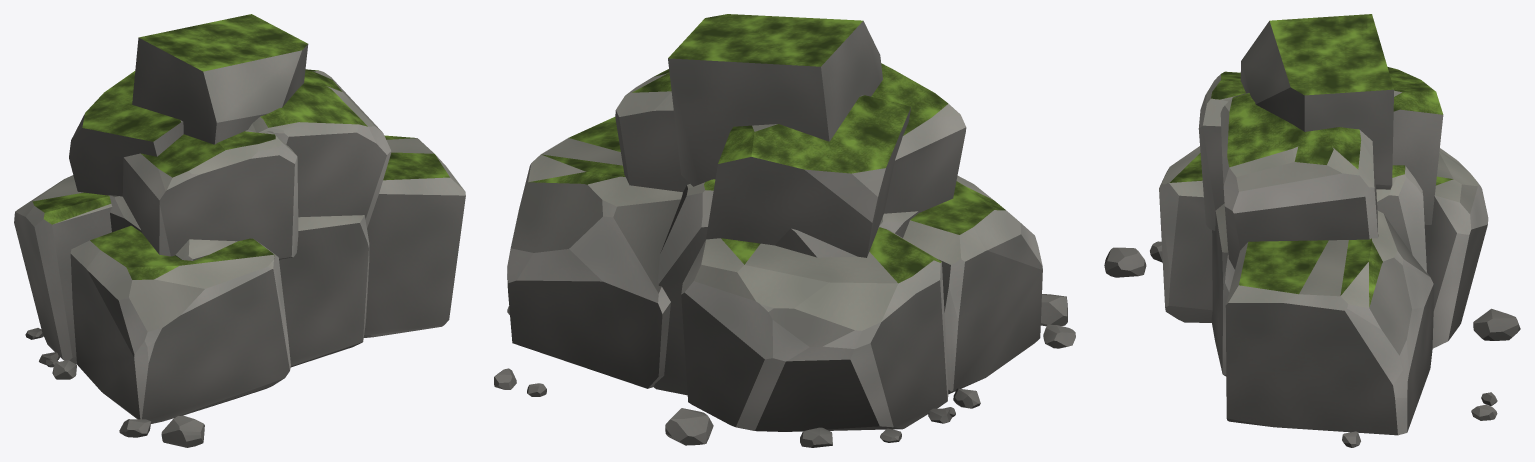
The model's file is Cracked_rock_07.glb.
3 renders of one model, left to right at view 1: azimuth 30°, elevation 25°; view 2: azimuth 150°, elevation 25°; view 3: azimuth 270°, elevation 25°, orthographic. The views are drawn at different scales.
Visible parts, largest first — view 1: Rock; view 2: Rock; view 3: Rock.
Boxes of the visible parts, left/top/right/bottom form: Rock: left=14, top=14, right=465, bottom=447; Rock: left=494, top=14, right=1075, bottom=447; Rock: left=1104, top=14, right=1520, bottom=447.
Size of what is drawn, in the model's own units: 4.27 by 2.95 by 3.78.
2 materials, 2 textured.
